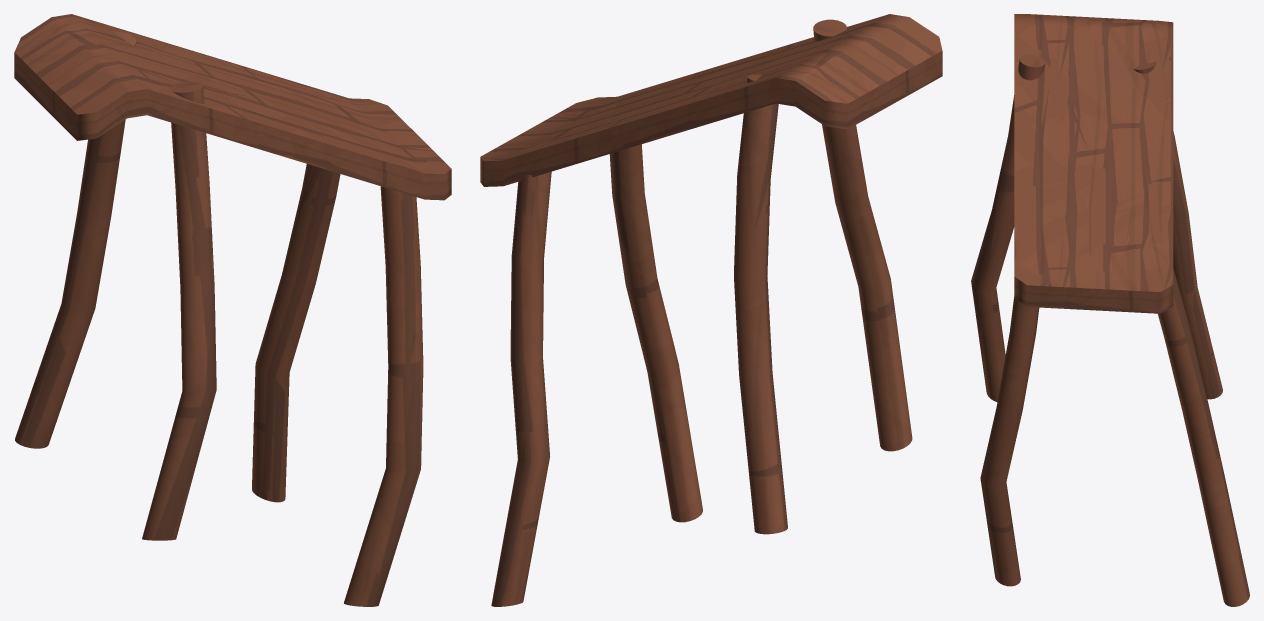
File: aanggnag_ramp_01.fbx
The picture shows the model from 3 angles, left to right: view 1: azimuth 30°, elevation 25°; view 2: azimuth 150°, elevation 25°; view 3: azimuth 270°, elevation 25°; orthographic projection. The views are drawn at different scales.
Parts seen in each view (by area): view 1: aanggnag_ramp_01; view 2: aanggnag_ramp_01; view 3: aanggnag_ramp_01.
Part boxes in pixels (x1,y1,x2,y2): aanggnag_ramp_01: (14,14,451,606); aanggnag_ramp_01: (480,14,942,606); aanggnag_ramp_01: (971,14,1249,606).
Size of the model in its own units: 360 by 504 by 268.
1 material, 1 textured.
